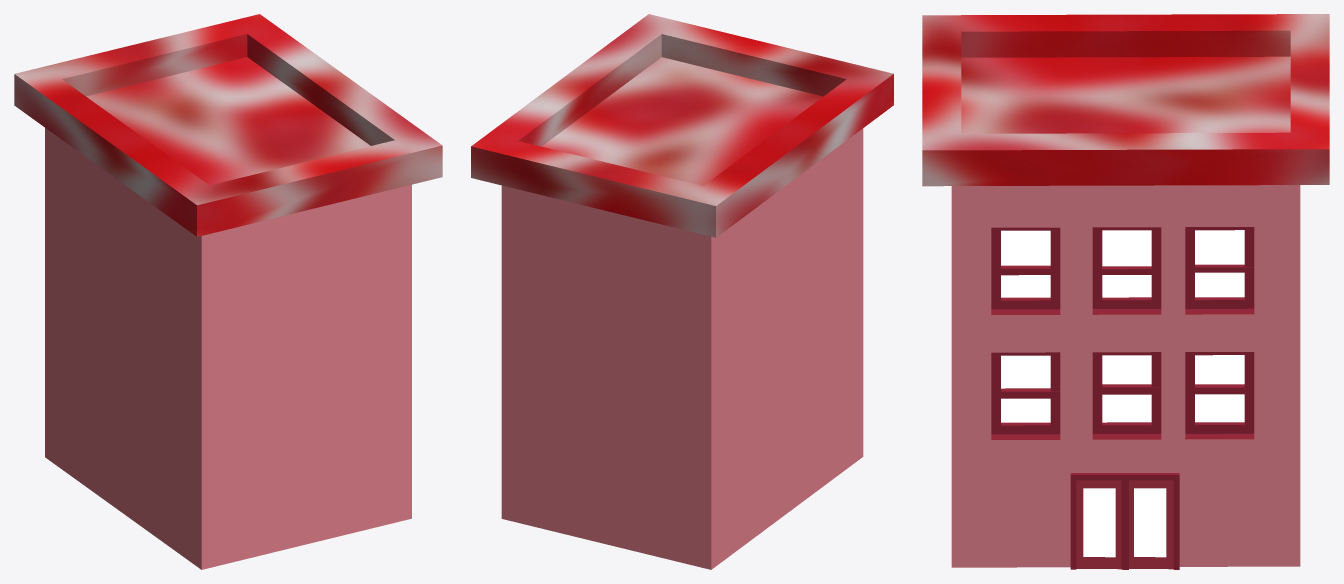
Rendered from Heart candy building.fbx.
The picture shows the model from 3 angles, left to right: view 1: azimuth 30°, elevation 25°; view 2: azimuth 150°, elevation 25°; view 3: azimuth 270°, elevation 25°; orthographic projection. The views are drawn at different scales.
Parts seen in each view (by area): view 1: Heart candy building; view 2: Heart candy building; view 3: Heart candy building.
Part boxes in pixels (x1,y1,x2,y2): Heart candy building: [14, 14, 442, 569]; Heart candy building: [471, 14, 893, 569]; Heart candy building: [922, 14, 1329, 569].
Bounding box in the file's own units: 1275 × 1861 × 1608.
6 materials, 1 textured.
